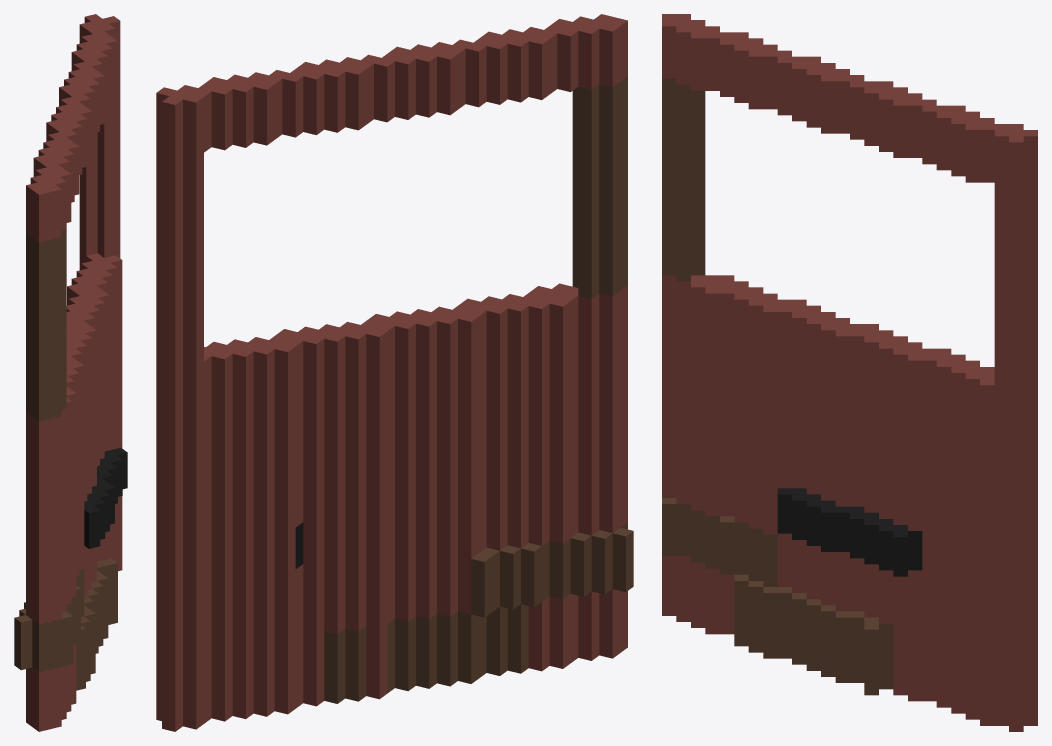
The model's file is jackknifed_lorry_cab_near_door.glb.
3 renders of one model, left to right at view 1: azimuth 30°, elevation 25°; view 2: azimuth 150°, elevation 25°; view 3: azimuth 270°, elevation 25°, orthographic. The views are drawn at different scales.
Visible parts, largest first — view 1: body:compound; view 2: body:compound; view 3: body:compound.
Part boxes in pixels (box(x1,y1,x2,y2)): body:compound: box(14, 14, 127, 731); body:compound: box(156, 14, 633, 731); body:compound: box(662, 14, 1037, 731).
Size of the model in its own units: 0.6875 by 1.41 by 0.8125.
